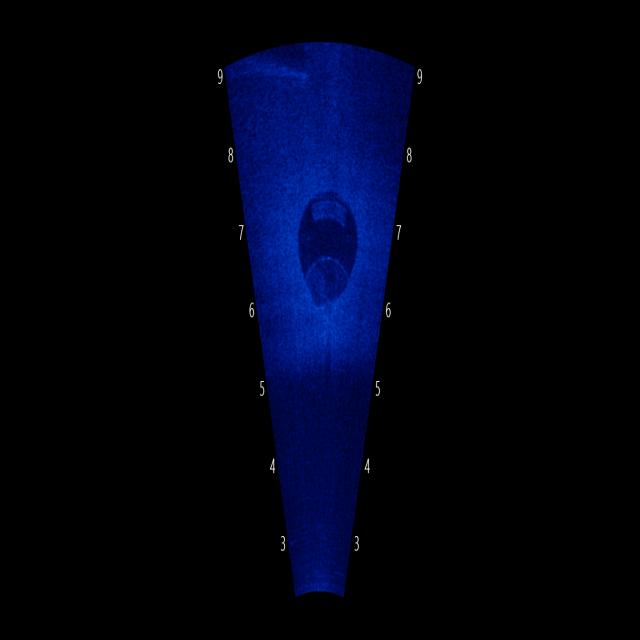circle: (292, 156, 364, 336)
